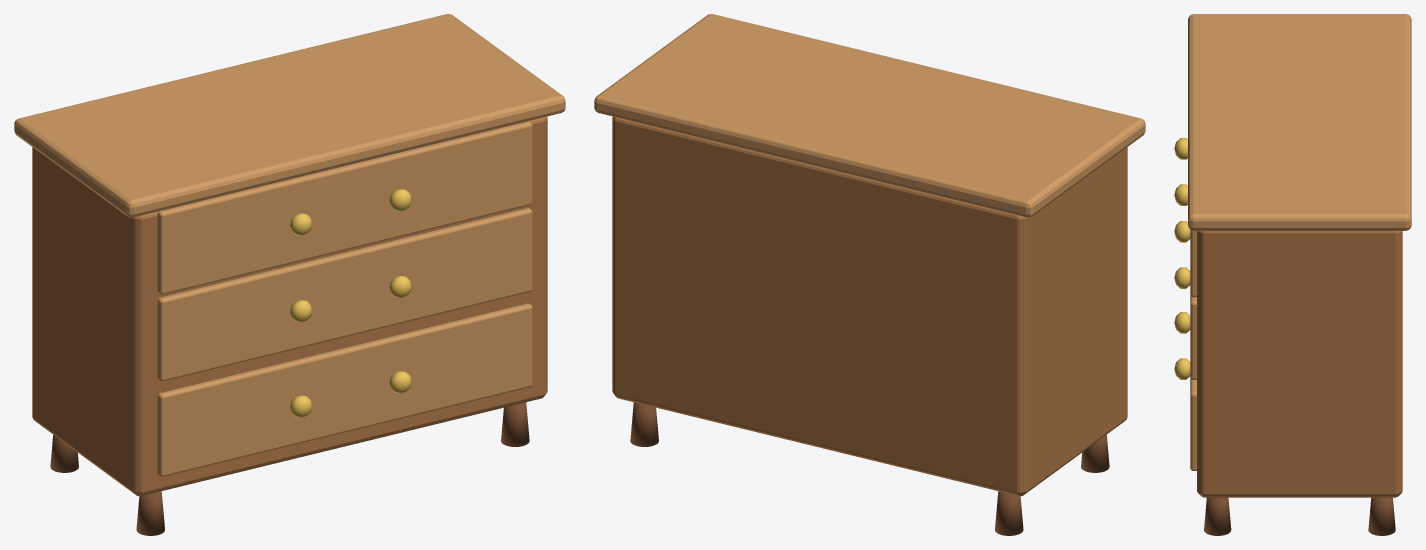
File: dresser.glb
3 views of the same model, side by side, from view 1: azimuth 30°, elevation 25°; view 2: azimuth 150°, elevation 25°; view 3: azimuth 270°, elevation 25° (orthographic). The views are drawn at different scales.
Parts seen in each view (by area): view 1: top, body, drawer-front.002, drawer-front, drawer-front.001, leg.003, leg.001, leg; view 2: body, top, leg.002, leg, leg.001; view 3: body, top, leg.002, leg.003, drawer-front, drawer-front.001, drawer-front.002, knob, knob.001, knob.003, knob.002.
Part boxes in pixels (bbox=[...]): top: bbox=[14, 14, 565, 217]; body: bbox=[32, 116, 547, 496]; drawer-front.002: bbox=[157, 121, 532, 294]; drawer-front: bbox=[157, 303, 532, 476]; drawer-front.001: bbox=[157, 208, 532, 381]; leg.003: bbox=[501, 402, 529, 446]; leg.001: bbox=[136, 491, 164, 535]; leg: bbox=[50, 435, 78, 472]; body: bbox=[612, 116, 1127, 496]; top: bbox=[594, 14, 1145, 217]; leg.002: bbox=[630, 402, 658, 446]; leg: bbox=[995, 491, 1023, 535]; leg.001: bbox=[1081, 435, 1109, 472]; body: bbox=[1197, 231, 1402, 497]; top: bbox=[1188, 14, 1411, 230]; leg.002: bbox=[1368, 497, 1395, 535]; leg.003: bbox=[1204, 497, 1231, 535]; drawer-front: bbox=[1190, 378, 1196, 470]; drawer-front.001: bbox=[1190, 295, 1196, 379]; drawer-front.002: bbox=[1190, 230, 1196, 297]; knob: bbox=[1174, 312, 1190, 333]; knob.001: bbox=[1174, 358, 1190, 379]; knob.003: bbox=[1174, 267, 1190, 288]; knob.002: bbox=[1174, 221, 1190, 242].
Bounding box in the file's own units: 1.06 × 0.8 × 0.52.
